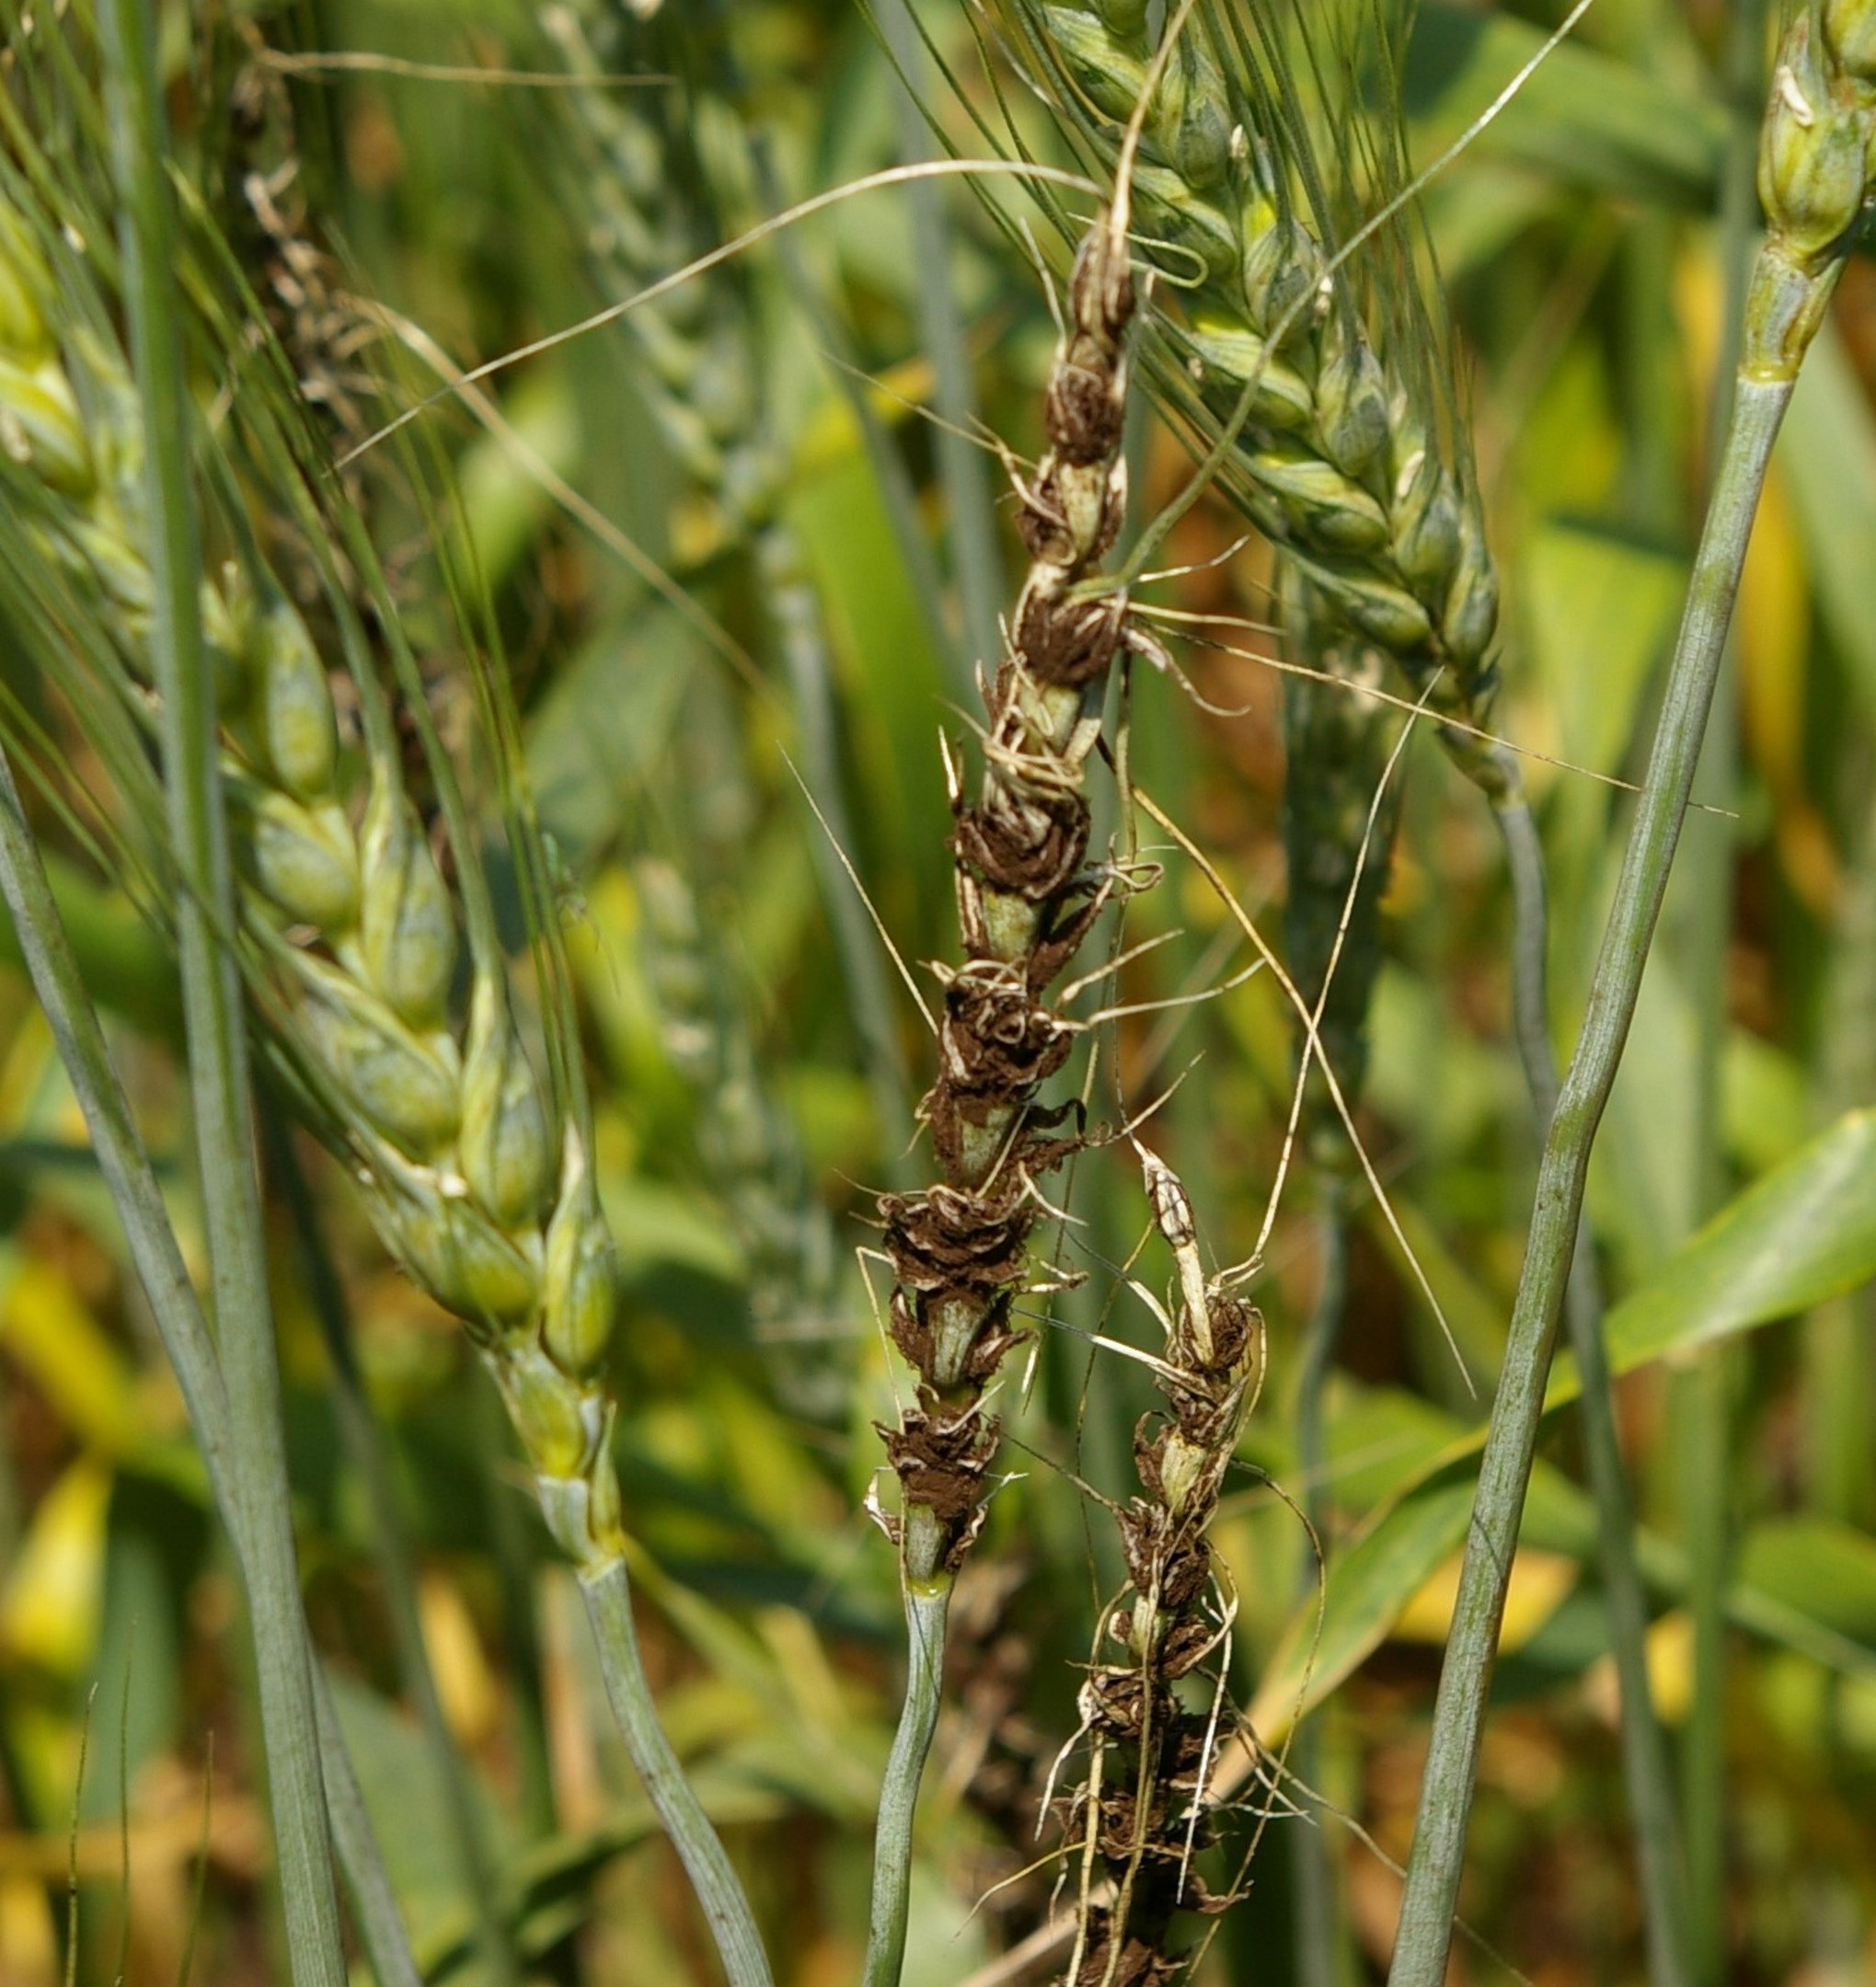Wheat Loose Smut: (857, 256, 1116, 1463), (1049, 1282, 1336, 1964)
